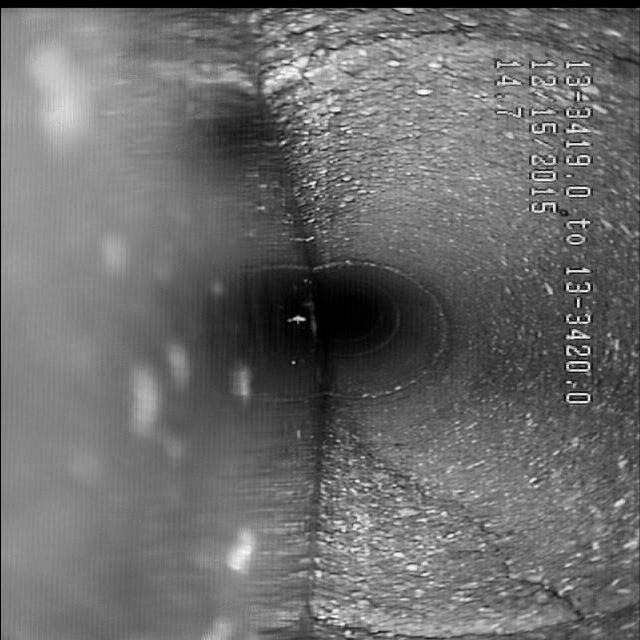Crack: (366, 478, 552, 568)
